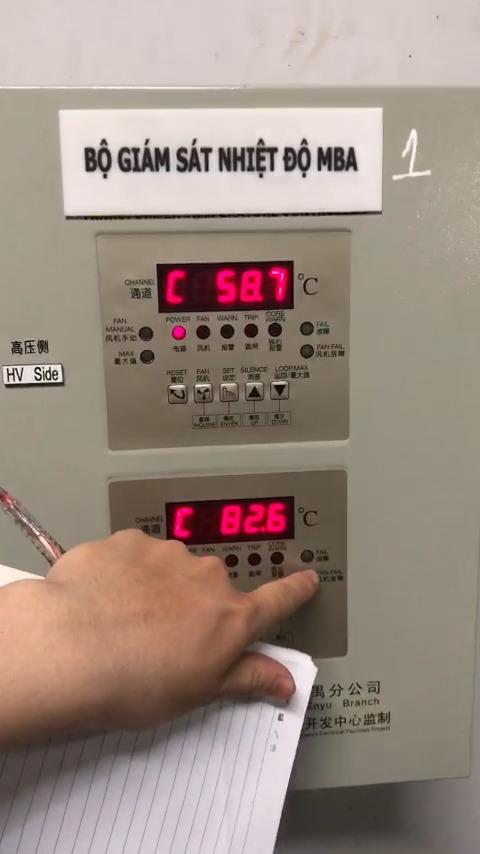led: (195, 325, 213, 341), (171, 325, 189, 341), (299, 321, 316, 337), (244, 323, 260, 340), (139, 349, 156, 365), (268, 322, 284, 338), (139, 326, 155, 342), (300, 344, 316, 360), (220, 324, 236, 339), (269, 551, 285, 566), (247, 552, 262, 568), (225, 554, 239, 569), (299, 550, 315, 563)
